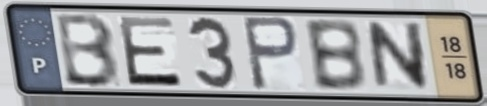3: (186, 14, 238, 92)
B: (54, 11, 123, 91), (300, 17, 370, 94)
E: (115, 15, 186, 89)
N: (364, 20, 433, 93)
P: (239, 14, 303, 94)
